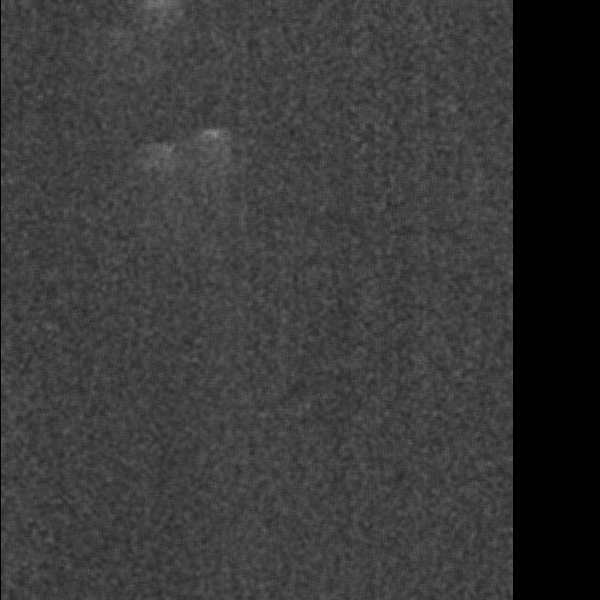spark: (47, 127, 142, 237), (130, 216, 206, 273), (100, 512, 178, 566), (283, 154, 322, 194), (190, 45, 226, 86), (1, 502, 23, 530)
